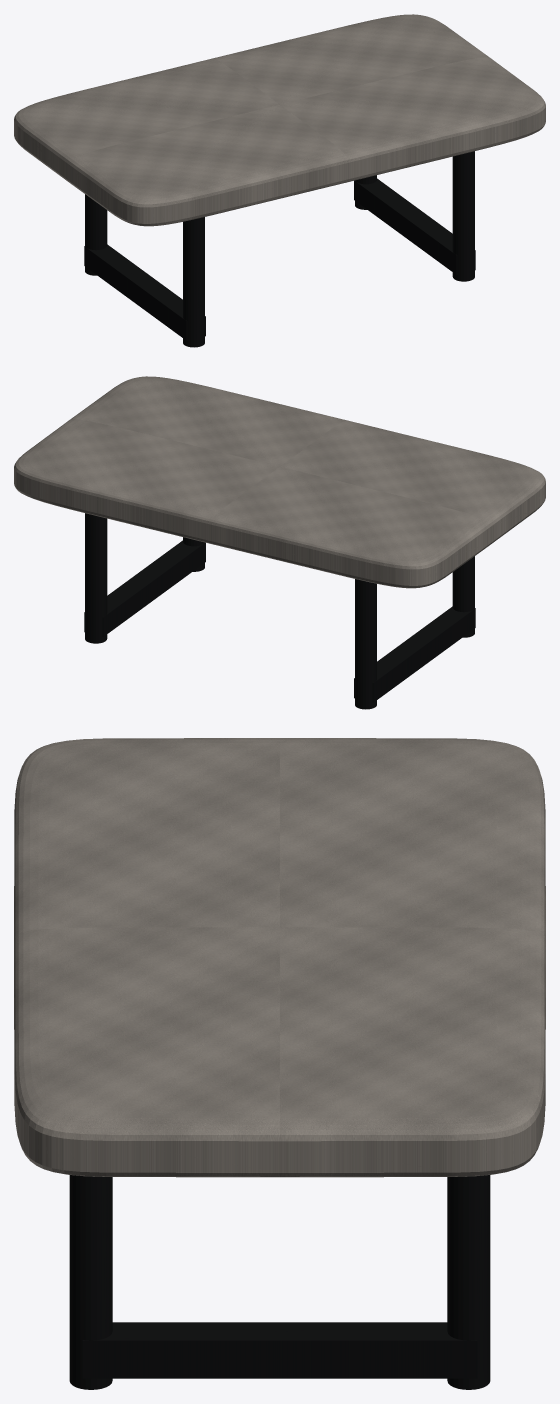
Rendered from coffee-table.glb.
The picture shows the model from 3 angles, top to bottom: view 1: azimuth 30°, elevation 25°; view 2: azimuth 150°, elevation 25°; view 3: azimuth 270°, elevation 25°; orthographic projection. The views are drawn at different scales.
Visible parts, largest first — view 1: top, rail_2, rail_1, leg_2_b, leg_1_b, leg_1_a; view 2: top, rail_2, rail_1, leg_2_a, leg_1_a, leg_1_b; view 3: top, rail_2, leg_2_b, leg_2_a.
Part boxes in pixels (x1,y1,x2,y2): top: [14, 14, 545, 226]; rail_2: [354, 178, 475, 274]; rail_1: [84, 244, 205, 340]; leg_2_b: [452, 151, 474, 281]; leg_1_b: [183, 217, 204, 347]; leg_1_a: [85, 194, 107, 275]; top: [14, 376, 545, 588]; rail_2: [84, 540, 205, 636]; rail_1: [354, 606, 475, 702]; leg_2_a: [85, 513, 107, 643]; leg_1_a: [355, 579, 376, 709]; leg_1_b: [452, 556, 474, 637]; top: [14, 738, 545, 1177]; rail_2: [82, 1322, 477, 1378]; leg_2_b: [69, 1175, 112, 1389]; leg_2_a: [447, 1175, 490, 1389].
Size of the model in its own units: 1.1 by 0.42 by 0.62.
2 materials, 2 textured.
